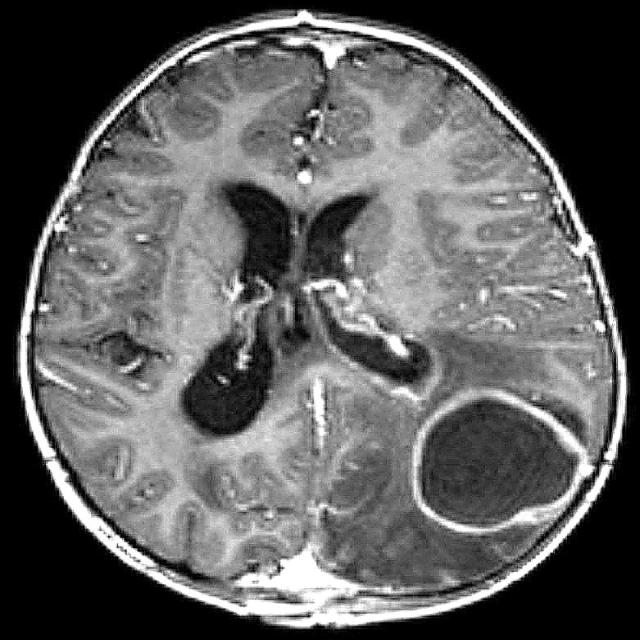Tumor-Cell: (394, 385, 567, 516)
